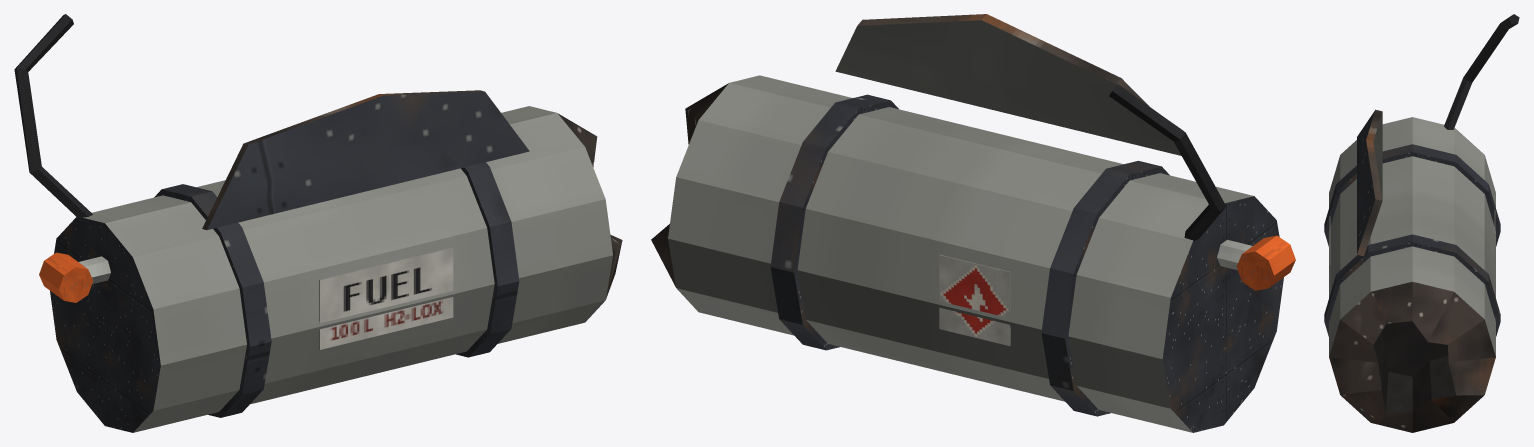
File: FuelTank.fbx
The picture shows the model from 3 angles, left to right: view 1: azimuth 30°, elevation 25°; view 2: azimuth 150°, elevation 25°; view 3: azimuth 270°, elevation 25°; orthographic projection. The views are drawn at different scales.
Parts seen in each view (by area): view 1: FuelTank; view 2: FuelTank; view 3: FuelTank.
Boxes of the visible parts, x1,y1,x2,y2 form: FuelTank: (14, 14, 622, 432); FuelTank: (651, 14, 1295, 432); FuelTank: (1324, 14, 1519, 432).
Size of the model in its own units: 2.57 by 1.6 by 1.05.
